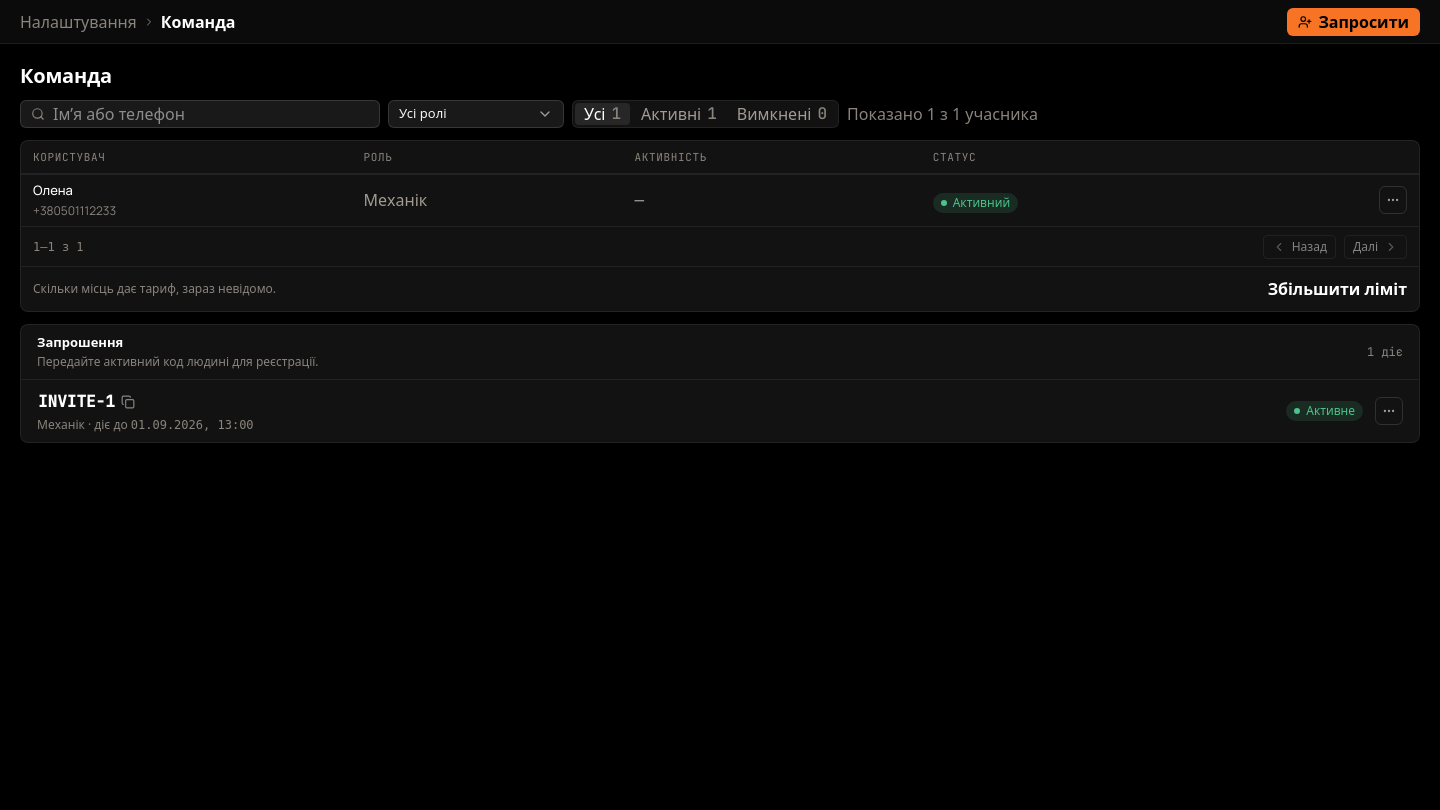
Test: copies the exact invitation code using the icon
The width and height of the screenshot is (1440, 810).
Click the 8th icon: (128, 402) [121,394,135,408]
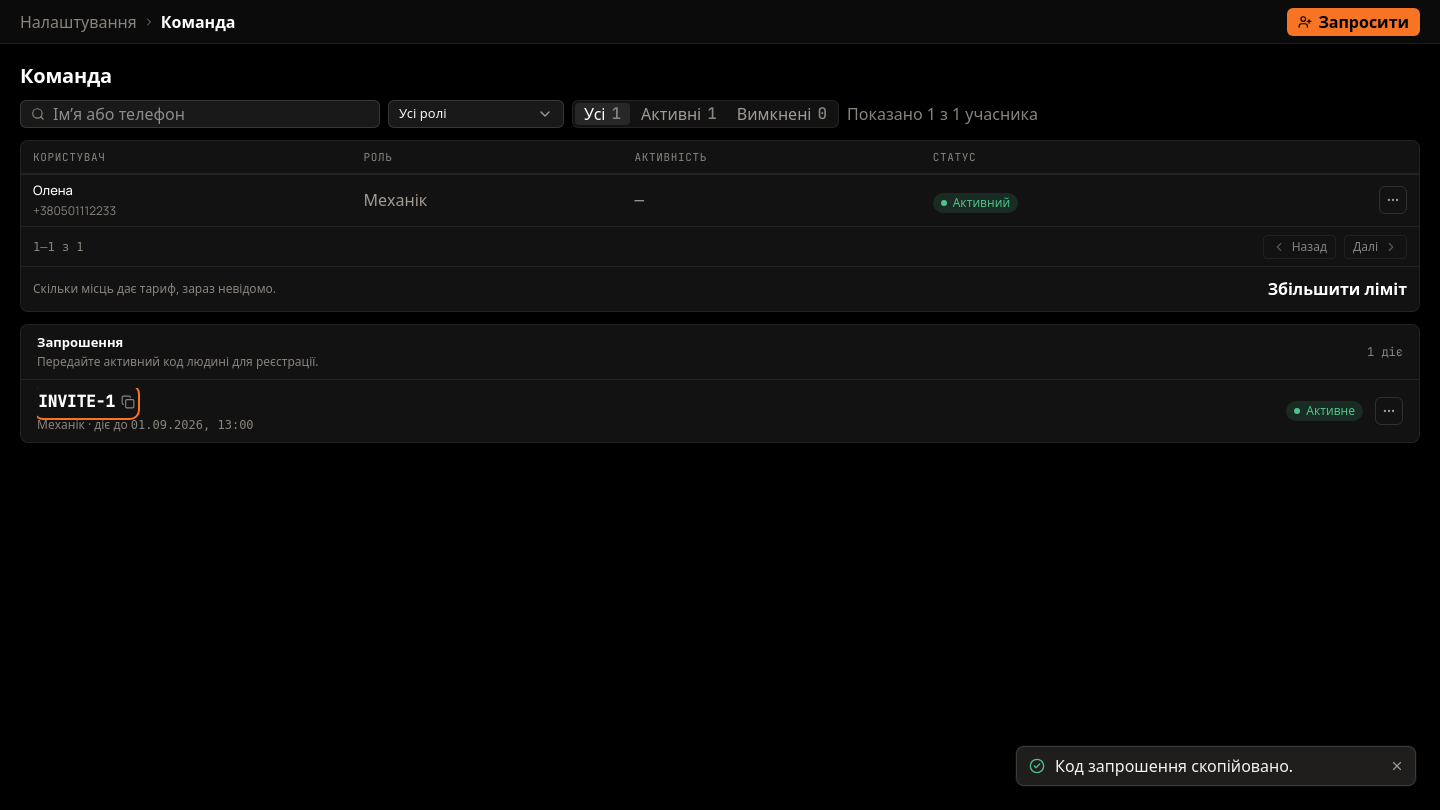
Now the message reads "Код запрошення скопійовано.", box [1055,755,1293,777]
